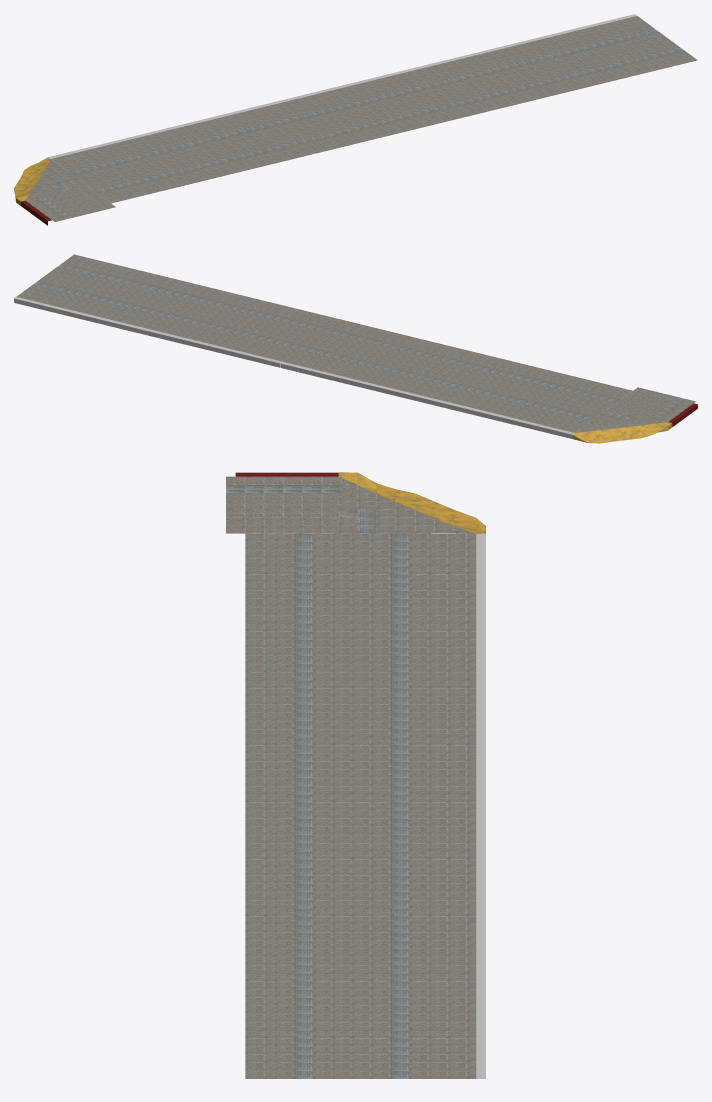
File: SideWalker_Plaza_MarceloTAlberar_esqPjsRevol.fbx
The picture shows the model from 3 angles, top to bottom: view 1: azimuth 30°, elevation 25°; view 2: azimuth 150°, elevation 25°; view 3: azimuth 270°, elevation 25°; orthographic projection. The views are drawn at different scales.
Parts seen in each view (by area): view 1: Esquina_vereda_paseo.003; view 2: Esquina_vereda_paseo.003; view 3: Esquina_vereda_paseo.003.
Boxes of the visible parts, x1,y1,x2,y2 form: Esquina_vereda_paseo.003: (14,14,697,225); Esquina_vereda_paseo.003: (14,254,697,443); Esquina_vereda_paseo.003: (226,472,485,1078).
Bounding box in the file's own units: 74.49 × 0.5139 × 13.5.
